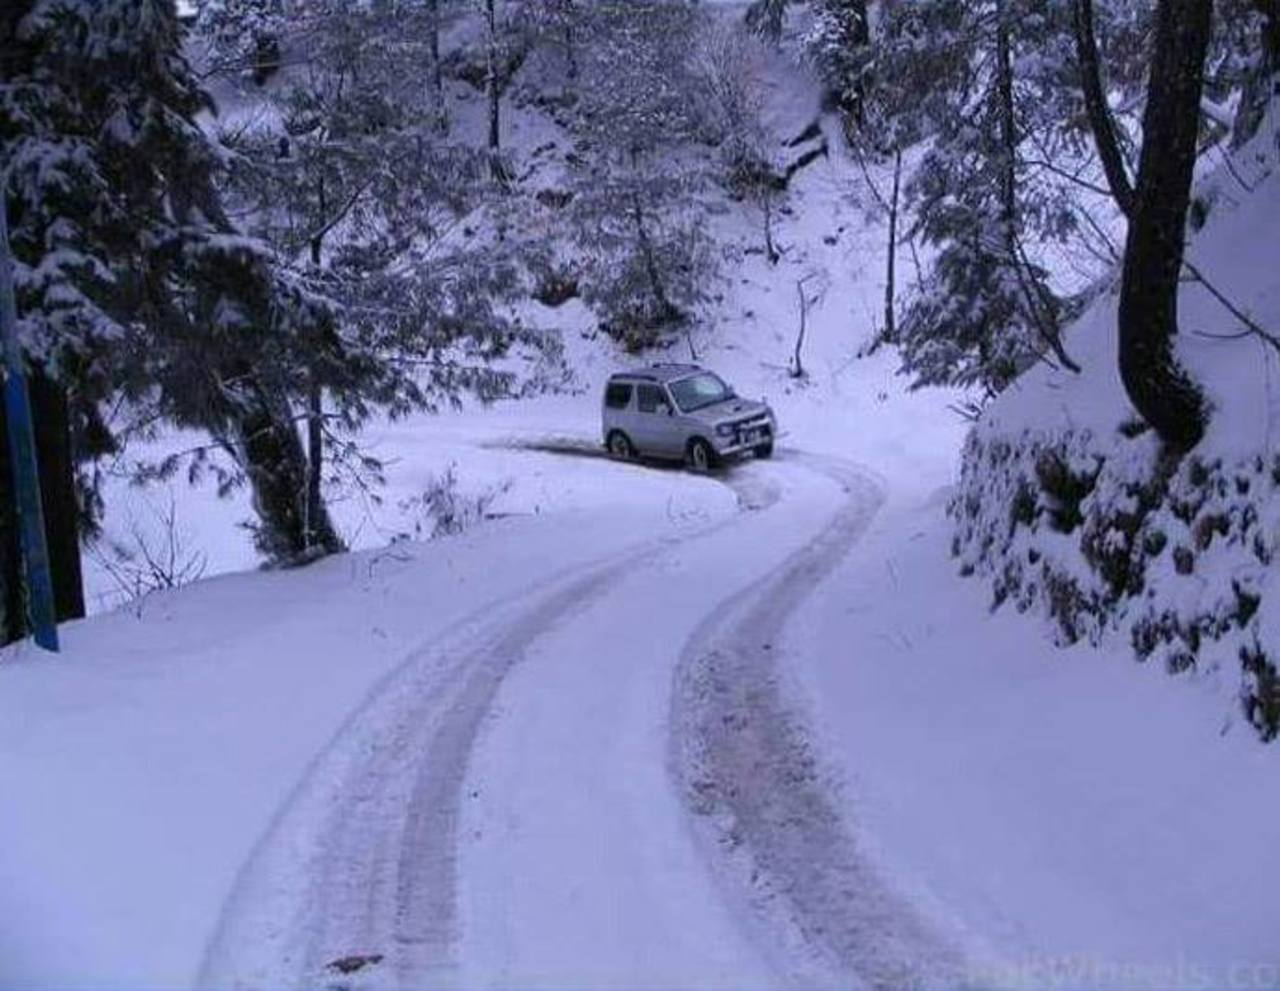car: (598, 365, 777, 474)
